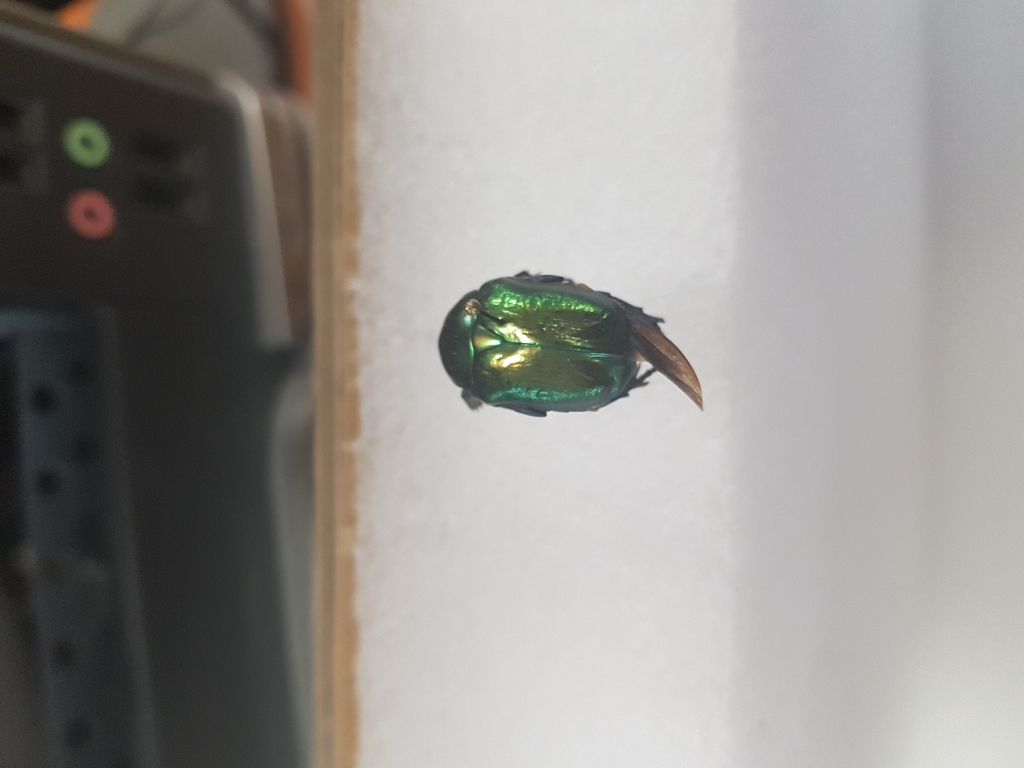Protaetia_angustata_angustata: (432, 264, 721, 421)
